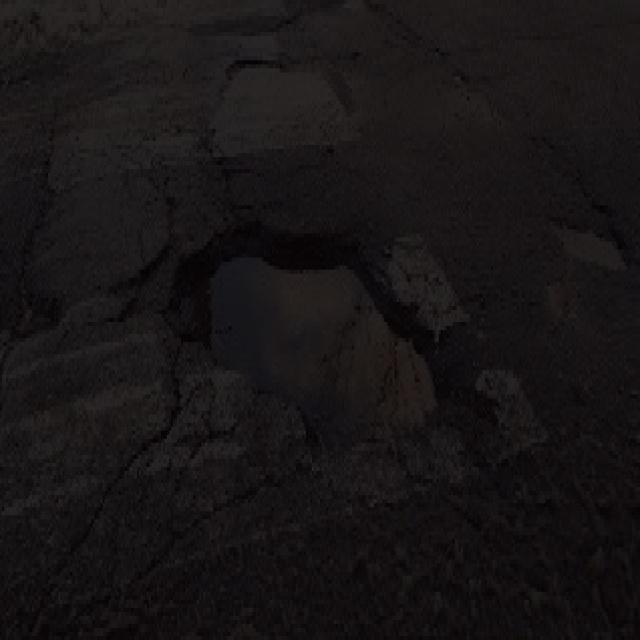Pothole: (147, 209, 486, 469), (194, 46, 372, 166)
